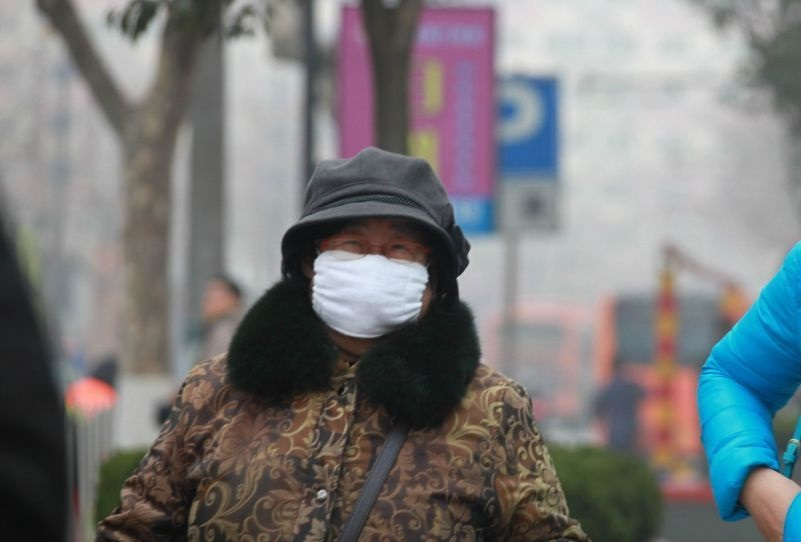face_mask: (313, 207, 426, 340)
